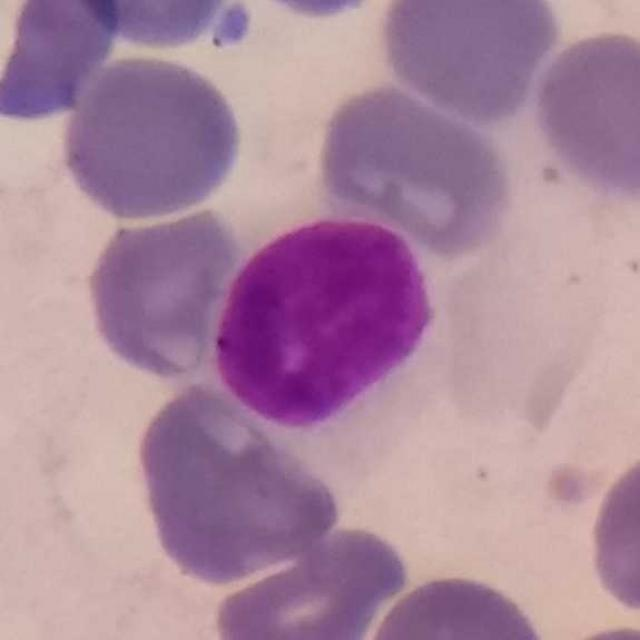Lymphocyte: (210, 200, 468, 488)
Platelets: (209, 0, 255, 52)
RBC: (128, 376, 346, 588), (311, 79, 518, 259), (54, 49, 250, 225), (80, 202, 251, 383), (208, 522, 414, 640), (374, 0, 565, 124), (528, 24, 640, 202), (0, 0, 126, 130), (360, 567, 554, 640), (582, 439, 640, 622), (72, 0, 222, 55)
